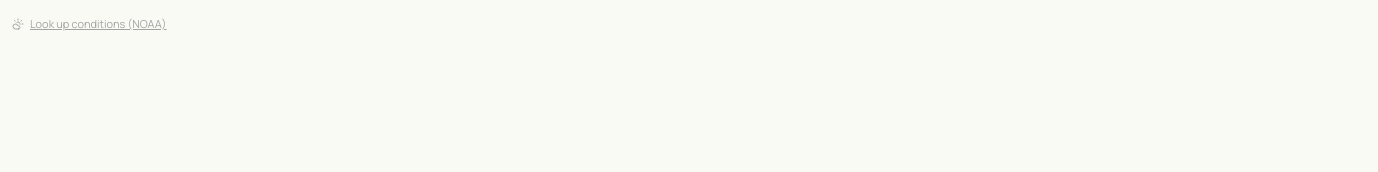
Test case: the accept gate › a failed lookup leaves the dialog exactly as manual entry, with a reason
The image size is (1378, 172).
Click the button "Look up conditions (NOAA)".
click(89, 24)  # box [12, 16, 166, 32]
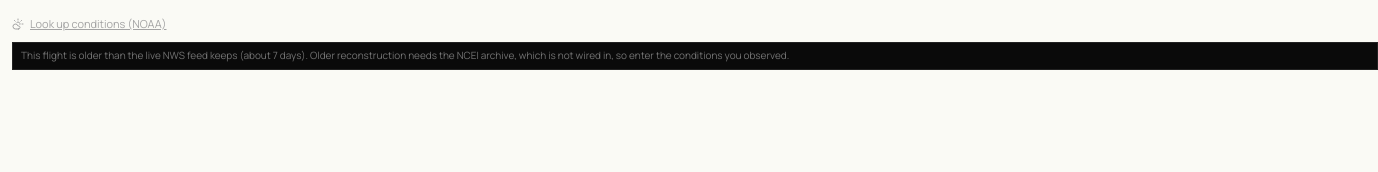
Expected: the text "NCEI archive, which is not wired in" is shown, [21, 48, 789, 62]
